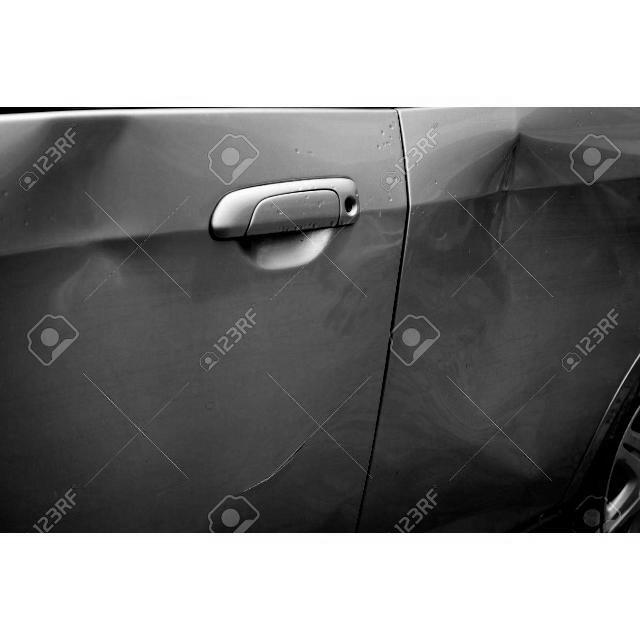doorouter-dent: (8, 108, 402, 533), (405, 110, 640, 532)
